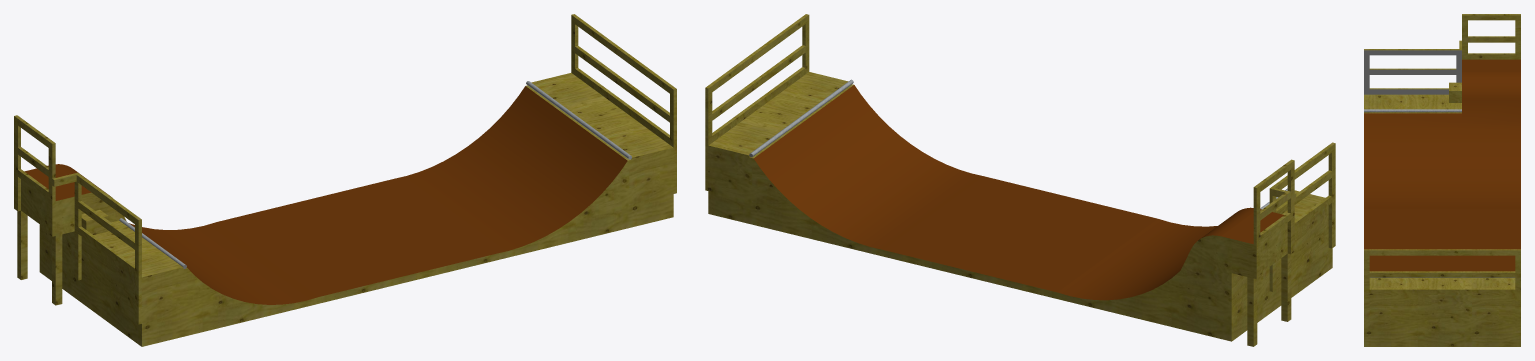
File: bir-half-pip.gltf
The picture shows the model from 3 angles, left to right: view 1: azimuth 30°, elevation 25°; view 2: azimuth 150°, elevation 25°; view 3: azimuth 270°, elevation 25°; orthographic projection. The views are drawn at different scales.
Visible parts, largest first — view 1: root; view 2: root; view 3: root.
Boxes of the visible parts, bbox=[...] form: root: bbox=[14, 14, 676, 346]; root: bbox=[705, 14, 1335, 346]; root: bbox=[1364, 14, 1520, 346].
Size of the model in its own units: 7.71 by 2.13 by 2.44.
Materials: 4 (2 with a texture image).
